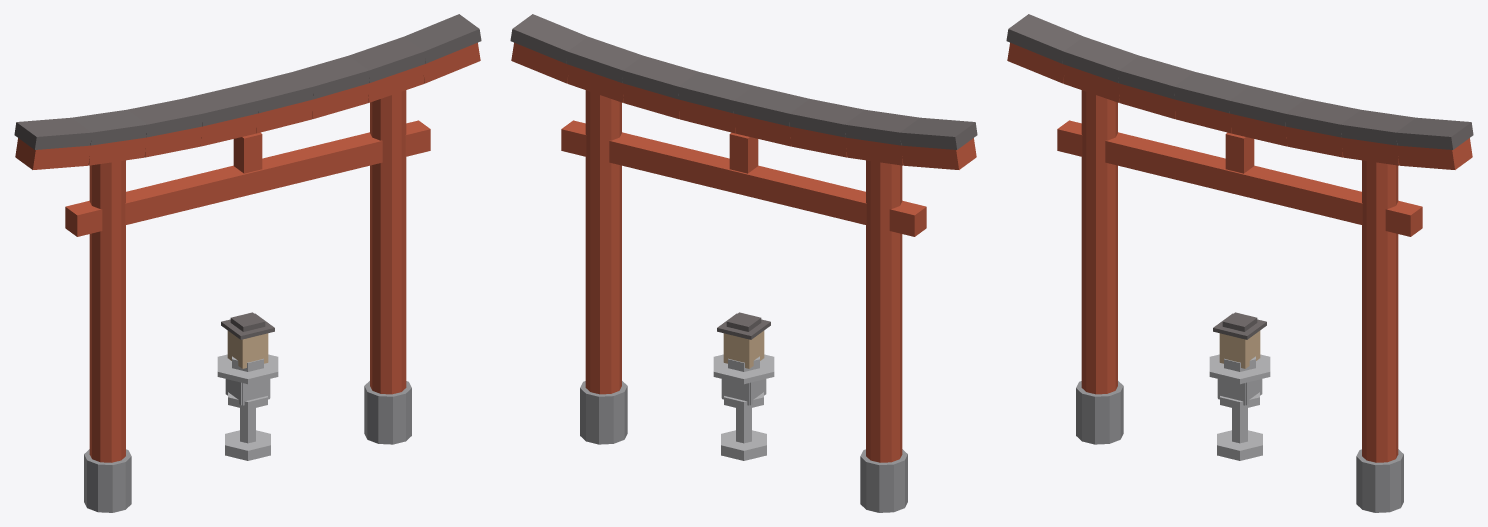
Rendered from props.glb.
The picture shows the model from 3 angles, left to right: view 1: azimuth 30°, elevation 25°; view 2: azimuth 150°, elevation 25°; view 3: azimuth 330°, elevation 25°; orthographic projection.
Parts seen in each view (by area): view 1: Torii, StoneLantern, StreetLantern; view 2: Torii, StoneLantern, StreetLantern; view 3: Torii, StoneLantern, StreetLantern.
Boxes of the visible parts, x1=… form: Torii: x1=14, y1=14, x2=481, y2=512; StoneLantern: x1=217, y1=354, x2=278, y2=460; StreetLantern: x1=221, y1=312, x2=274, y2=368; Torii: x1=510, y1=14, x2=977, y2=512; StoneLantern: x1=713, y1=354, x2=774, y2=460; StreetLantern: x1=717, y1=312, x2=770, y2=368; Torii: x1=1006, y1=14, x2=1473, y2=512; StoneLantern: x1=1209, y1=354, x2=1270, y2=460; StreetLantern: x1=1213, y1=312, x2=1266, y2=368.
Bounding box in the file's own units: 7.35 × 6.17 × 0.866.
